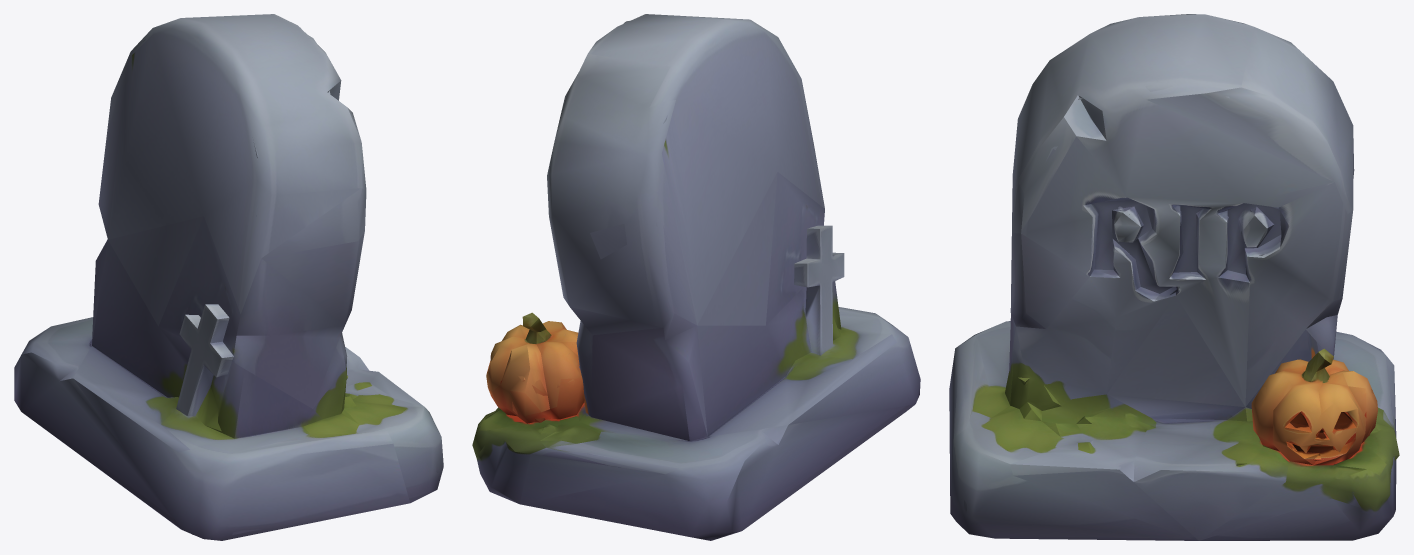
The model's file is S12_Gravestone_LOD2.fbx.
3 views of the same model, side by side, from view 1: azimuth 30°, elevation 25°; view 2: azimuth 150°, elevation 25°; view 3: azimuth 270°, elevation 25° (orthographic). The views are drawn at different scales.
Parts seen in each view (by area): view 1: S12_Gravestone_LOD2; view 2: S12_Gravestone_LOD2; view 3: S12_Gravestone_LOD2.
Part boxes in pixels (<box>): S12_Gravestone_LOD2: <box>14,14,443,540</box>; S12_Gravestone_LOD2: <box>472,14,920,540</box>; S12_Gravestone_LOD2: <box>949,14,1399,540</box>.
Bounding box in the file's own units: 0.5937 × 0.8986 × 0.8061.
1 material, 1 textured.
